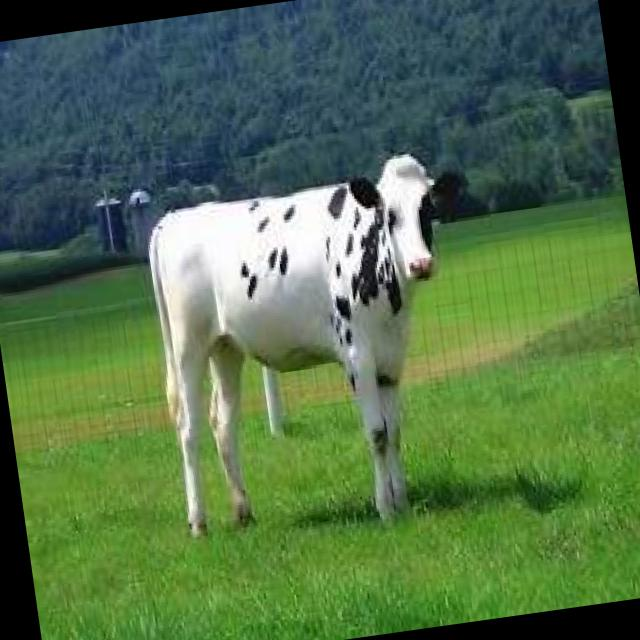cow: (137, 140, 514, 550)
